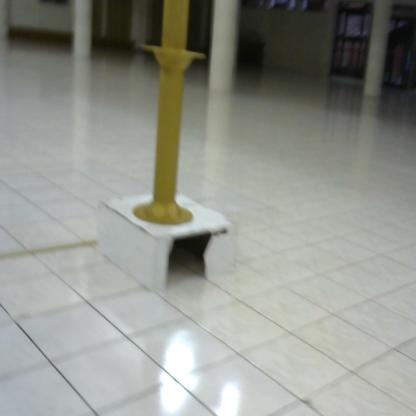pole: (133, 1, 208, 233)
